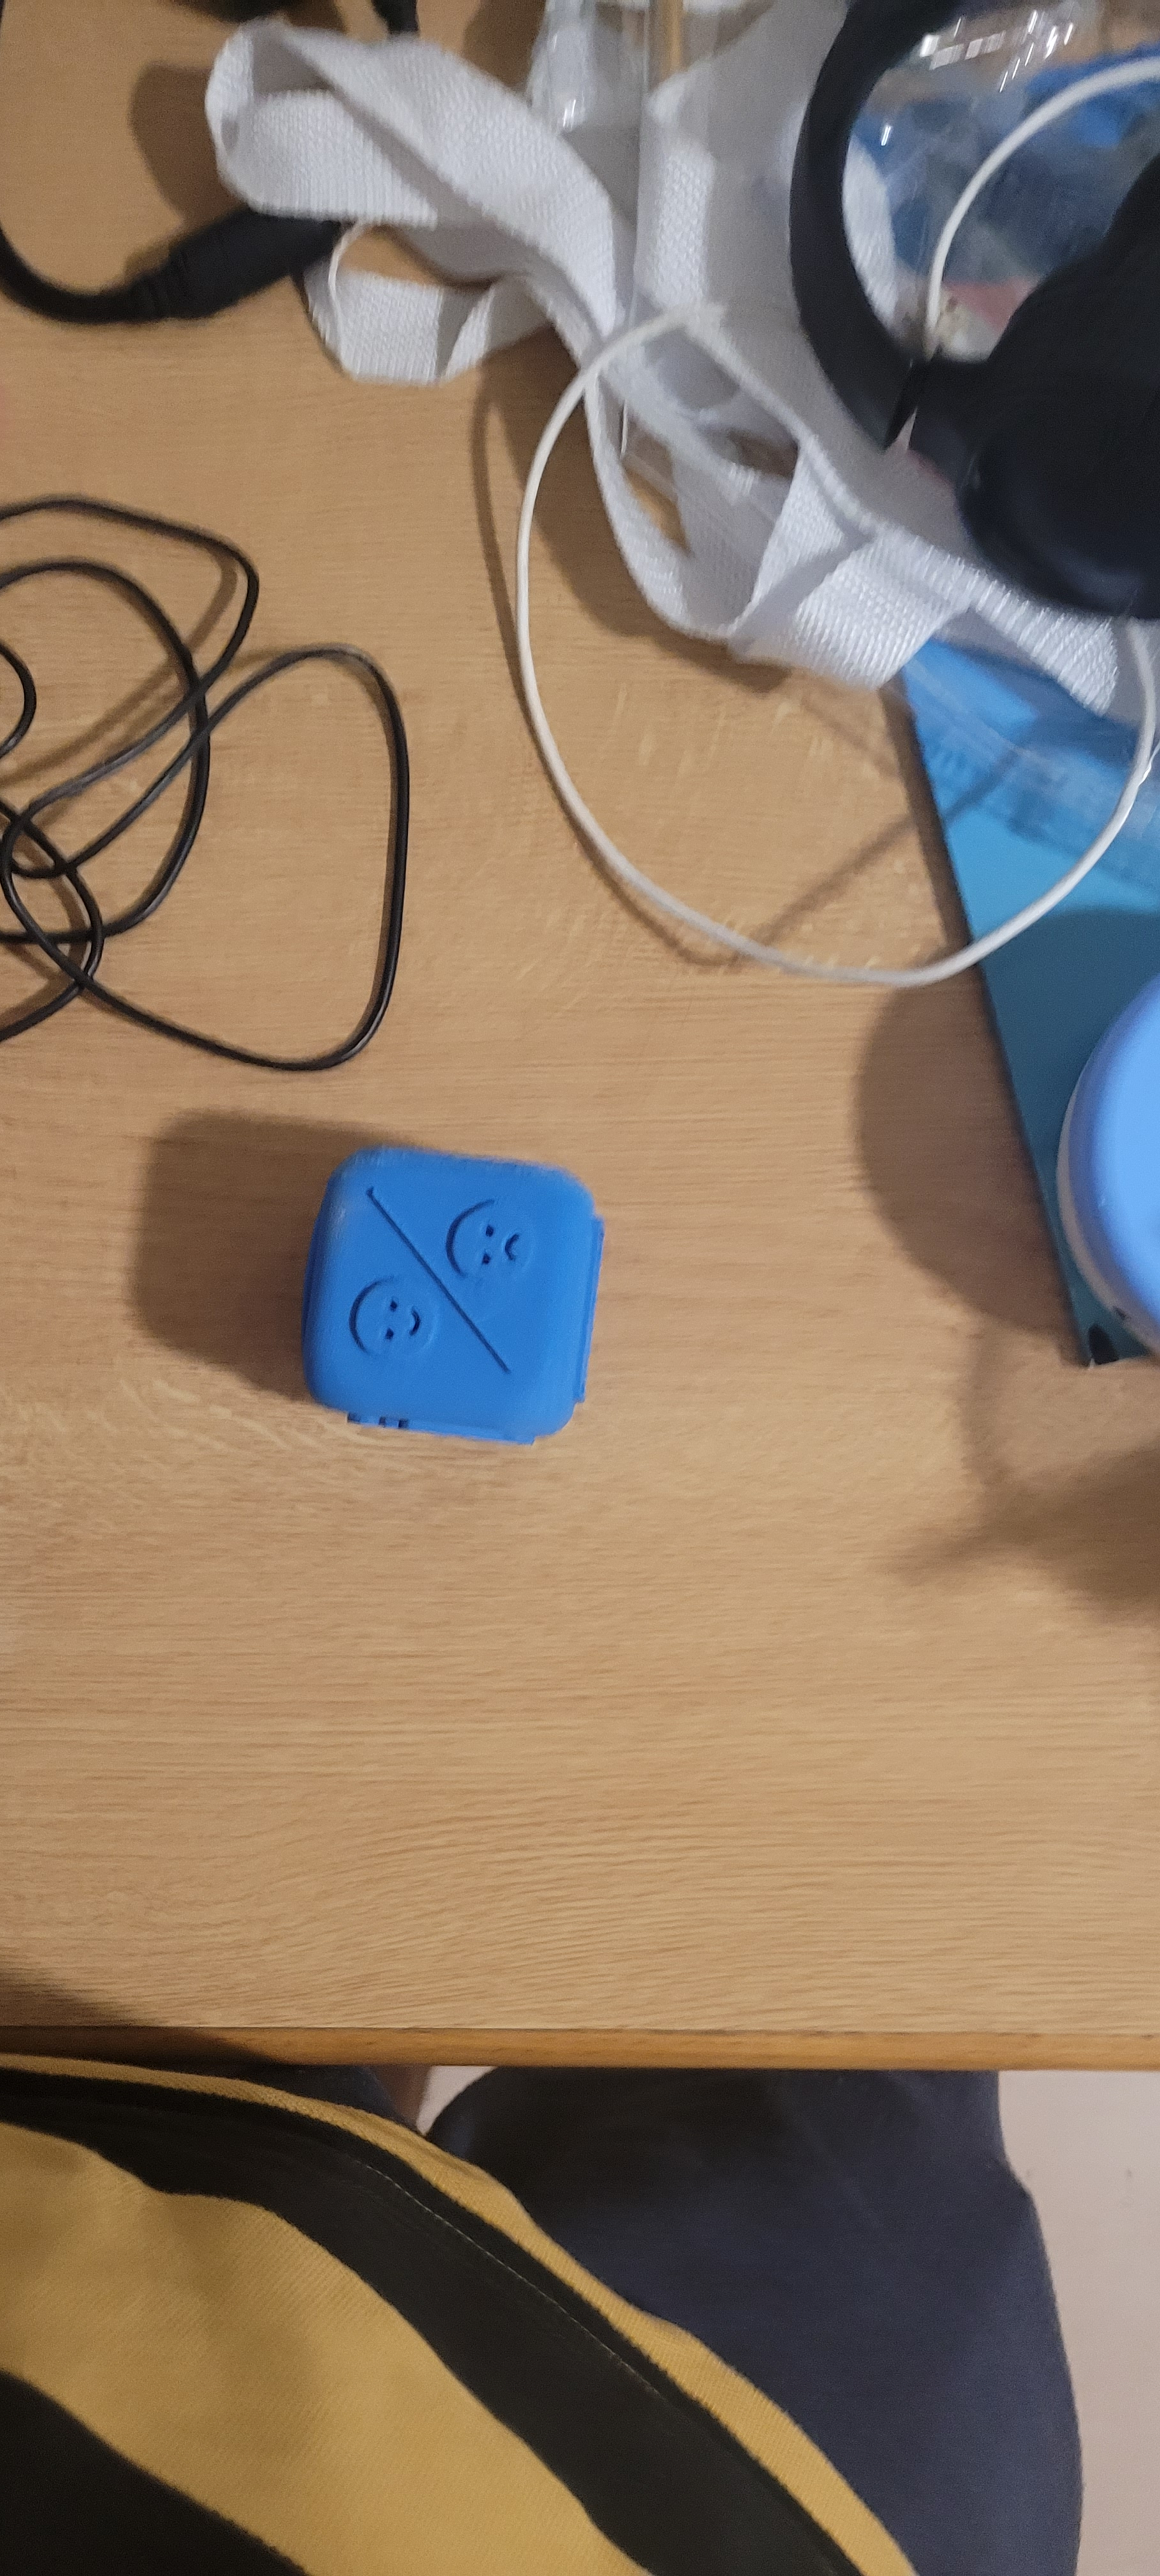Like/Dislike: (281, 1115, 633, 1460)
